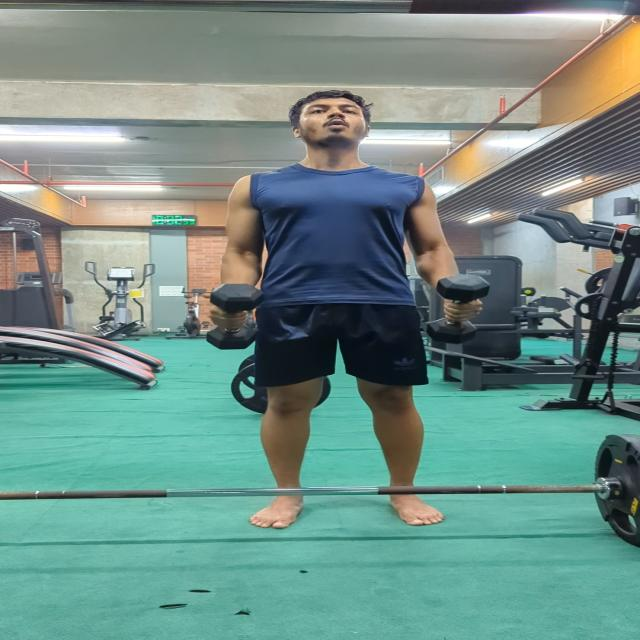Normal_DumbbellBicepCurls: (187, 83, 503, 534)
